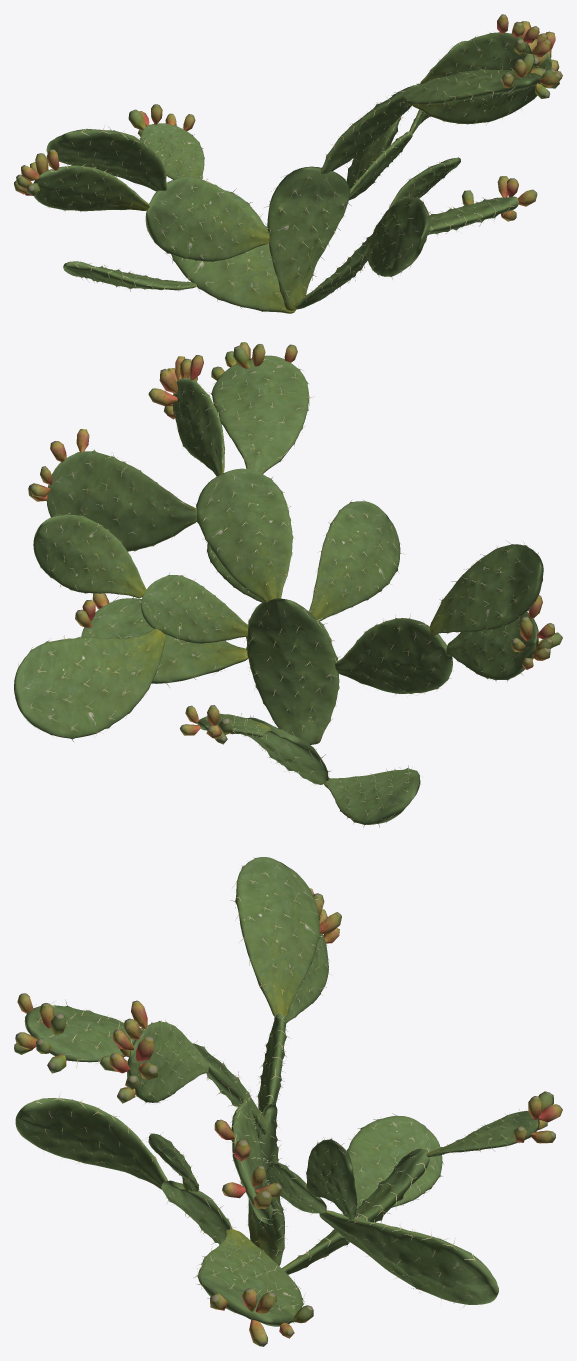
The model's file is Opuntia ficus-indica HD_Drooping fruits mat 40_LOD1.fbx.
3 views of the same model, one above another, from view 1: azimuth 30°, elevation 25°; view 2: azimuth 150°, elevation 25°; view 3: azimuth 270°, elevation 25° (orthographic). The views are drawn at different scales.
Visible parts, largest first — view 1: Opuntia_ficus_indica_HD; view 2: Opuntia_ficus_indica_HD; view 3: Opuntia_ficus_indica_HD.
Boxes of the visible parts, left/top/right/bottom form: Opuntia_ficus_indica_HD: left=14, top=14, right=562, bottom=313; Opuntia_ficus_indica_HD: left=14, top=342, right=562, bottom=827; Opuntia_ficus_indica_HD: left=14, top=857, right=562, bottom=1346.
Size of the model in its own units: 1.58 by 0.8954 by 1.21.
Materials: 12 (12 with a texture image).
